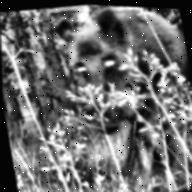boar: (56, 3, 192, 182)
